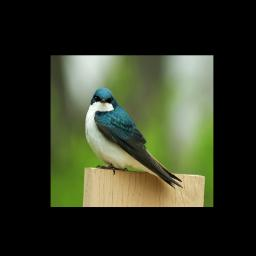Swallow: (84, 87, 185, 190)
